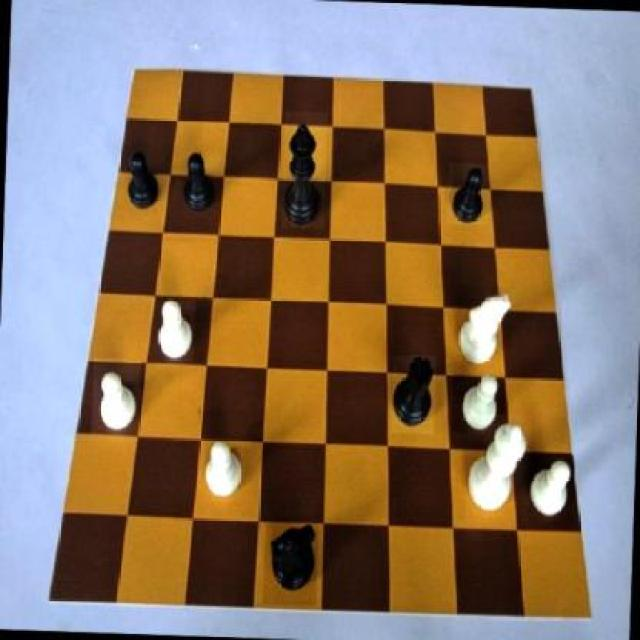black-bishop: (280, 111, 327, 228)
black-king: (262, 522, 318, 606)
black-knight: (448, 163, 490, 226), (182, 153, 219, 220), (123, 144, 159, 210)
black-queen: (391, 356, 437, 434)
white-bishop: (464, 412, 532, 526)
white-king: (454, 284, 514, 370)
white-knight: (91, 359, 140, 436), (524, 454, 574, 526), (197, 438, 251, 502), (450, 374, 504, 434), (149, 298, 196, 366)
